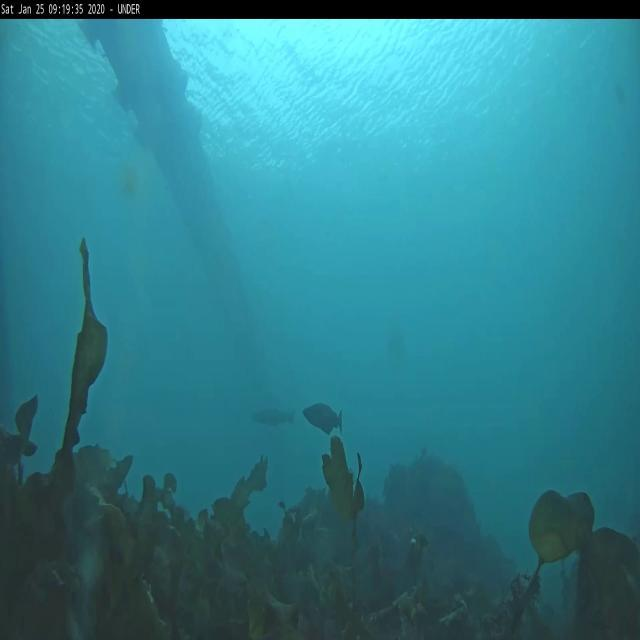fish: (300, 398, 344, 436), (252, 404, 296, 427)
